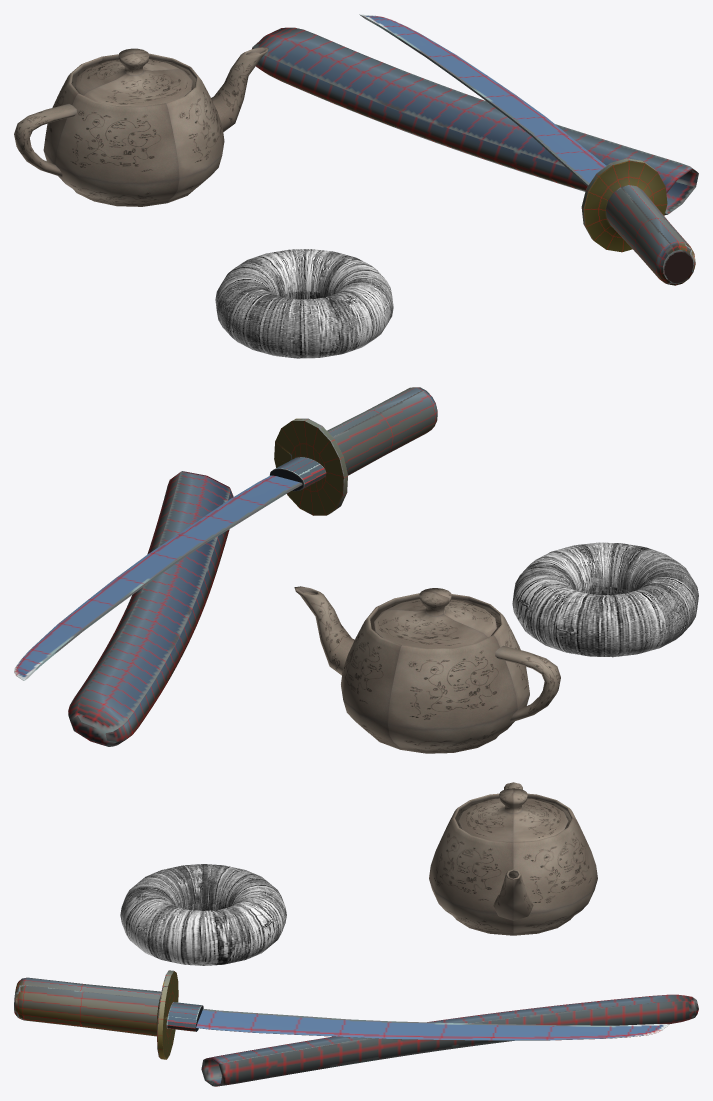
The model's file is SceneTexture.dae.
3 renders of one model, top to bottom at view 1: azimuth 30°, elevation 25°; view 2: azimuth 150°, elevation 25°; view 3: azimuth 270°, elevation 25°, orthographic. The views are drawn at different scales.
Parts seen in each view (by area): view 1: sword_cover1, Teapot001, pTorus1; view 2: sword_cover1, Teapot001, pTorus1; view 3: sword_cover1, Teapot001, pTorus1.
Part boxes in pixels (x1,y1,x2,y2): sword_cover1: [252, 14, 698, 285]; Teapot001: [14, 47, 268, 206]; pTorus1: [215, 249, 393, 358]; sword_cover1: [14, 387, 437, 746]; Teapot001: [294, 586, 560, 753]; pTorus1: [512, 542, 698, 657]; sword_cover1: [14, 970, 698, 1086]; Teapot001: [429, 782, 597, 935]; pTorus1: [120, 864, 286, 965].
Bounding box in the file's own units: 20.35 × 5.79 × 24.65.
